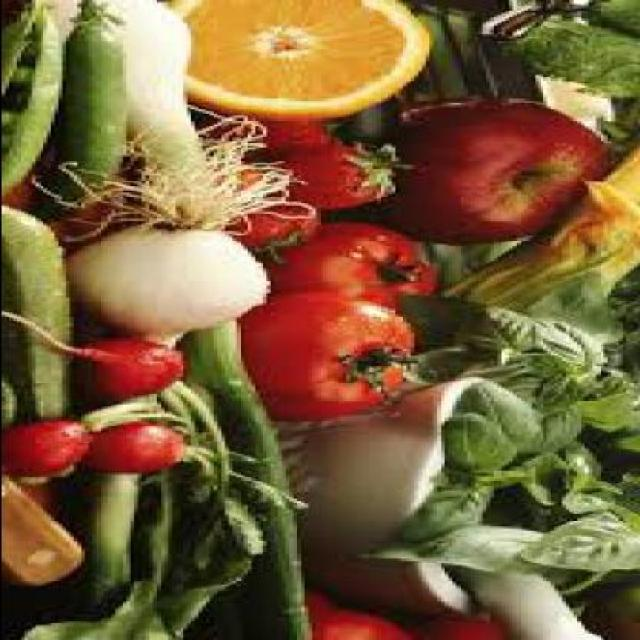BIODEGRADABLE: (38, 120, 318, 351), (190, 319, 318, 639), (375, 98, 613, 248), (443, 137, 639, 314), (174, 2, 435, 122), (155, 378, 271, 638), (72, 1, 212, 208), (18, 522, 254, 638), (242, 296, 424, 422), (4, 209, 79, 486), (38, 2, 128, 221), (265, 220, 443, 314), (5, 312, 189, 400), (4, 402, 193, 484), (64, 475, 148, 628), (359, 528, 587, 581), (3, 2, 65, 196), (504, 19, 639, 101), (269, 144, 417, 211), (462, 571, 610, 638), (518, 272, 624, 346), (522, 512, 638, 576), (462, 383, 553, 454), (492, 311, 588, 377), (306, 591, 432, 638), (401, 483, 496, 542), (538, 320, 605, 394), (242, 207, 322, 265), (447, 414, 519, 478), (212, 122, 337, 158), (417, 341, 500, 385), (515, 451, 576, 507), (234, 475, 314, 514), (227, 495, 268, 556), (572, 476, 628, 516), (575, 390, 637, 424), (544, 411, 590, 455), (606, 98, 639, 156), (424, 616, 510, 638), (594, 1, 638, 42), (465, 472, 538, 492), (564, 443, 602, 475), (591, 416, 638, 436), (4, 388, 22, 432), (628, 292, 638, 371), (227, 452, 276, 468), (620, 435, 638, 454)
